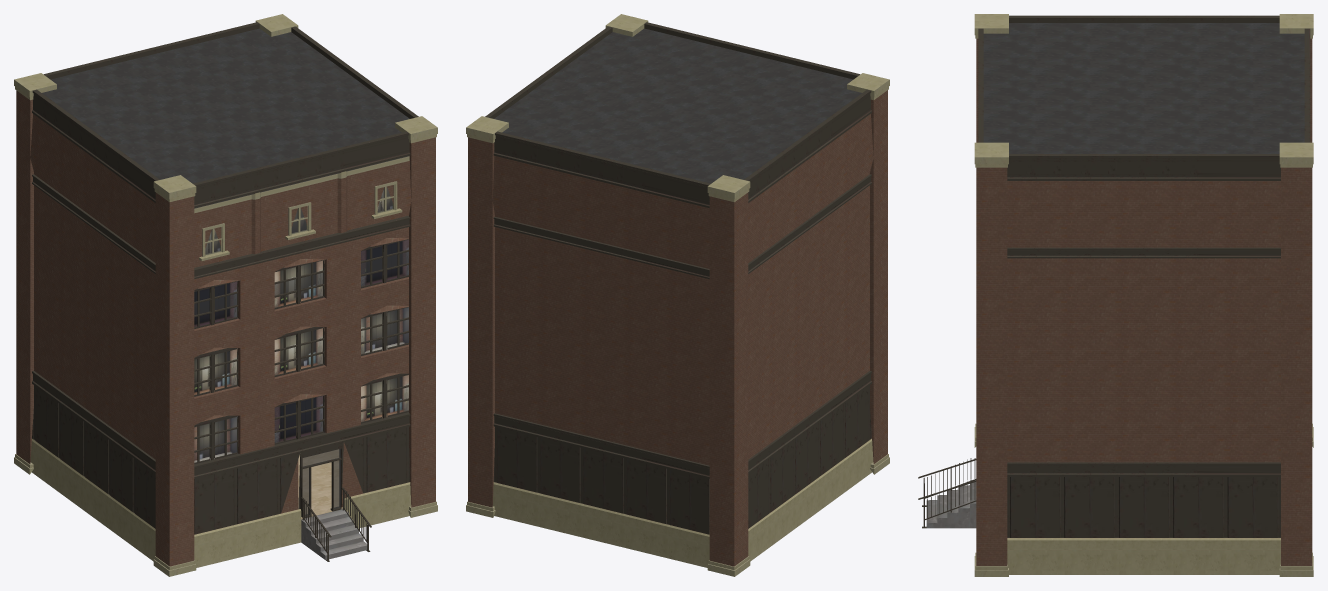
Rendered from building-small-1_lod2.glb.
The picture shows the model from 3 angles, left to right: view 1: azimuth 30°, elevation 25°; view 2: azimuth 150°, elevation 25°; view 3: azimuth 270°, elevation 25°; orthographic projection. The views are drawn at different scales.
Size of the model in its own units: 12.46 by 17.03 by 14.54.
10 materials, 9 textured.
